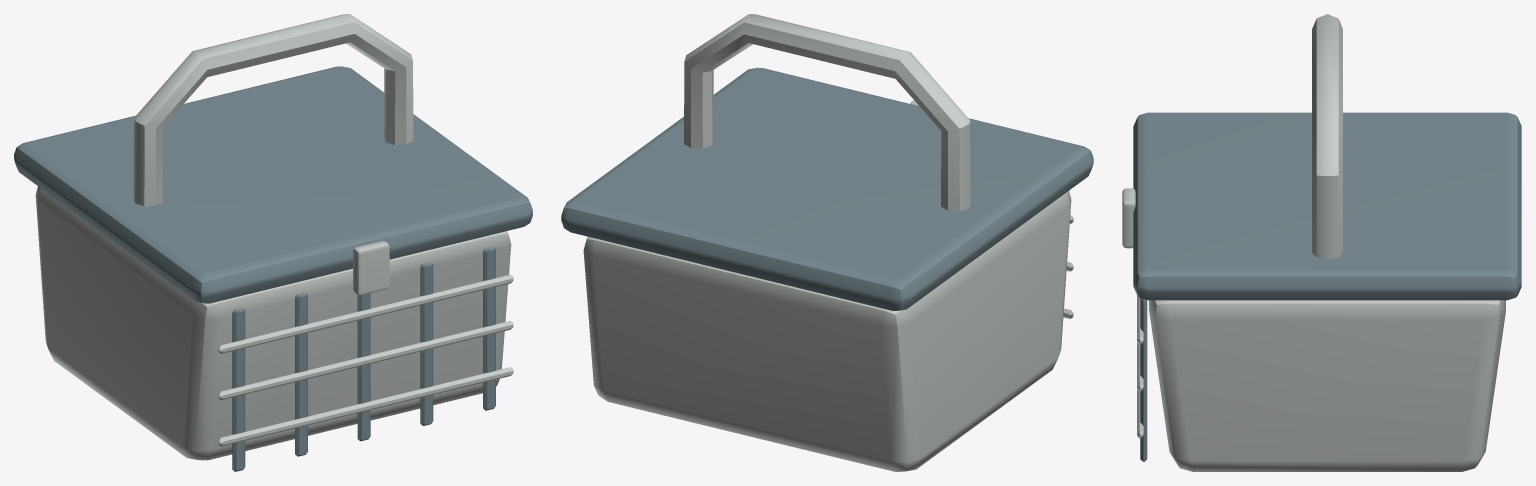
The model's file is picnic-basket.glb.
The picture shows the model from 3 angles, left to right: view 1: azimuth 30°, elevation 25°; view 2: azimuth 150°, elevation 25°; view 3: azimuth 270°, elevation 25°; orthographic projection. The views are drawn at different scales.
Visible parts, largest first — view 1: lid, woven_basket, arched_handle, woven_horizontal, woven_horizontal.002, woven_horizontal.001, woven_vertical.003, woven_vertical, clasp, woven_vertical.001, woven_vertical.004, woven_vertical.002; view 2: woven_basket, lid, arched_handle; view 3: lid, woven_basket, arched_handle, woven_vertical.004, clasp.
Boxes of the visible parts, box(x1,y1,x2,y2) form: lid: box(14, 66, 532, 303); woven_basket: box(35, 186, 511, 460); arched_handle: box(133, 14, 413, 206); woven_horizontal: box(218, 367, 513, 446); woven_horizontal.002: box(218, 274, 513, 353); woven_horizontal.001: box(218, 321, 513, 400); woven_vertical.003: box(420, 262, 433, 425); woven_vertical: box(232, 308, 245, 471); clasp: box(353, 241, 389, 295); woven_vertical.001: box(295, 292, 307, 456); woven_vertical.004: box(483, 246, 495, 410); woven_vertical.002: box(357, 293, 370, 441); woven_basket: box(583, 191, 1071, 471); lid: box(561, 67, 1093, 310); arched_handle: box(684, 14, 970, 211); lid: box(1133, 112, 1521, 300); woven_basket: box(1149, 300, 1505, 471); arched_handle: box(1312, 14, 1342, 259); woven_vertical.004: box(1140, 298, 1147, 461); clasp: box(1122, 188, 1135, 248).
Size of the model in its own units: 0.46 by 0.4476 by 0.463.
